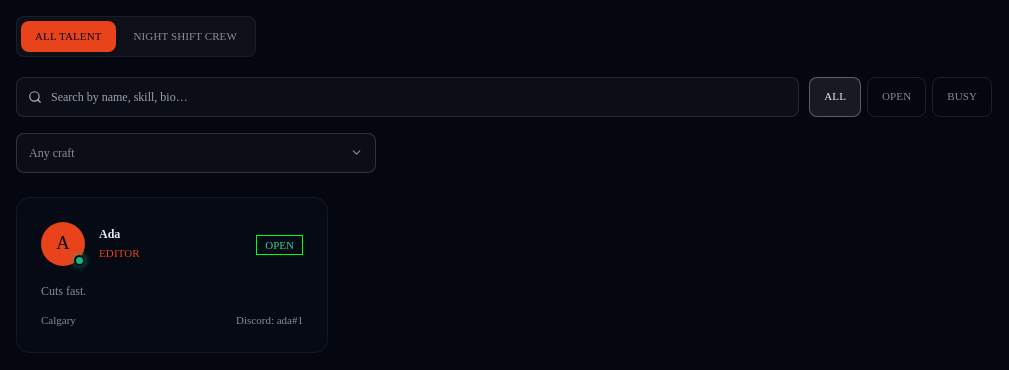
Scenario: CrewPage › project empty state points to Studio and Jobs
Expected: the text "Ada" is shown, [99, 227, 120, 241]
Click the button "NIGHT SHIFT CREW" at point(185, 36), box [120, 21, 251, 52]
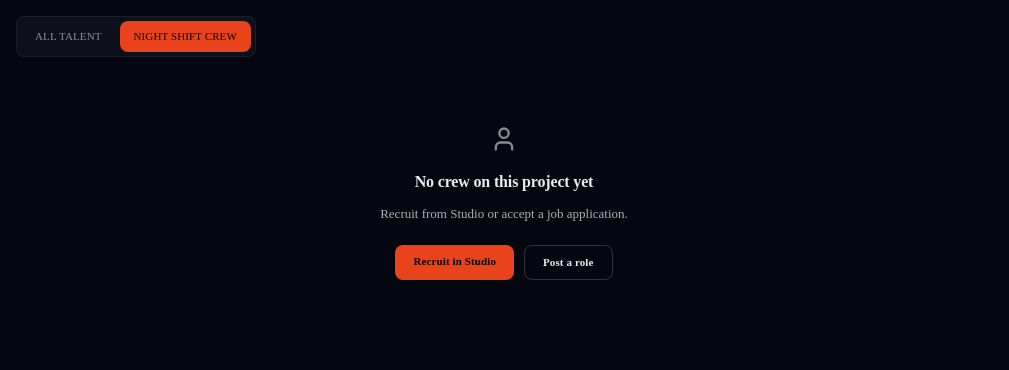
Expected: the text "No crew on this project yet" is shown, [415, 172, 593, 190]
